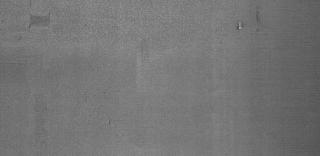inclusion: (232, 16, 250, 32)
rolled pit: (25, 9, 55, 34)
